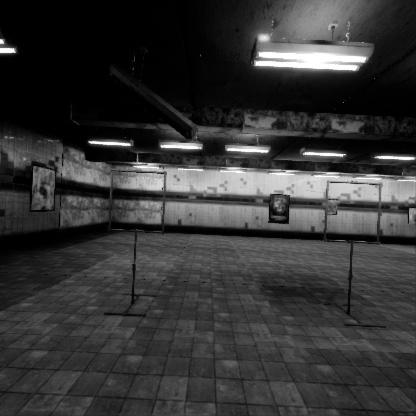gate: (108, 181, 172, 247), (324, 170, 387, 236)
